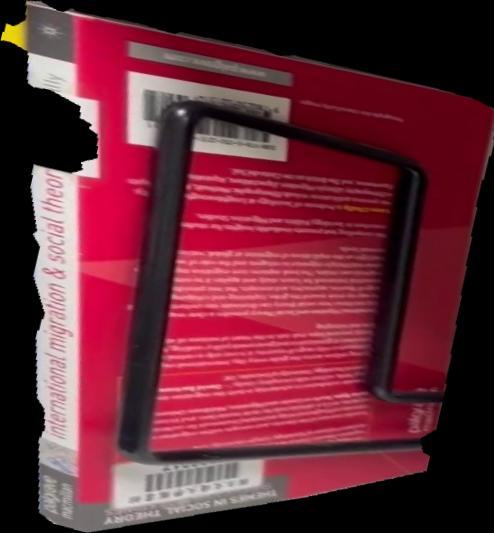reverse: (1, 1, 494, 533)
